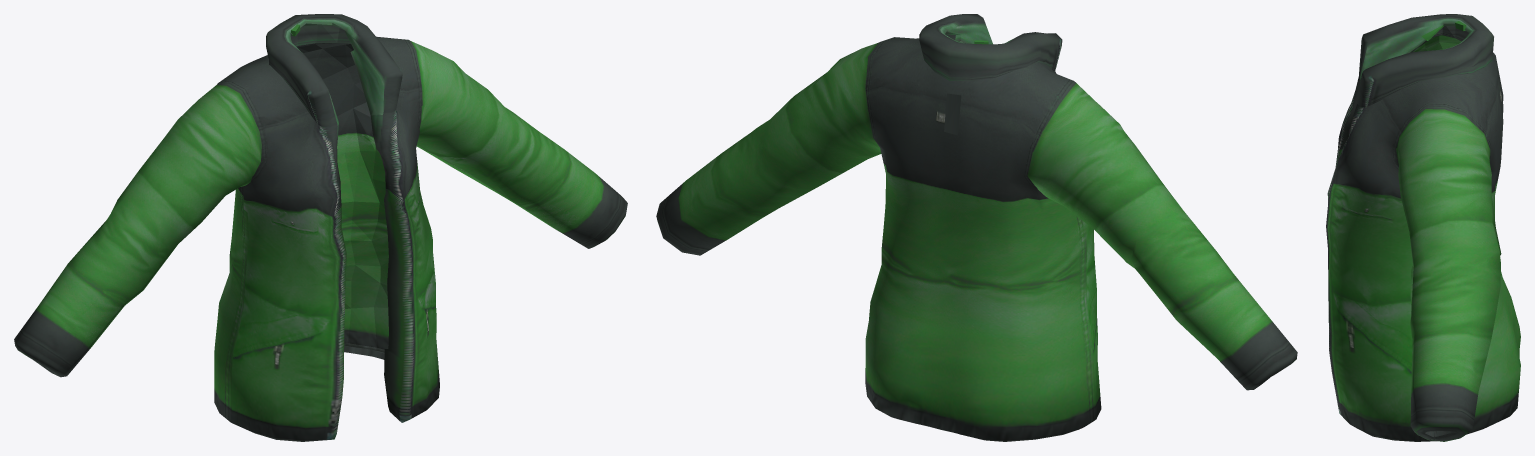
The model's file is jacket green.FBX.
3 renders of one model, left to right at view 1: azimuth 30°, elevation 25°; view 2: azimuth 150°, elevation 25°; view 3: azimuth 270°, elevation 25°, orthographic. The views are drawn at different scales.
Visible parts, largest first — view 1: casual24_f_highpoly; view 2: casual24_f_highpoly; view 3: casual24_f_highpoly.
Boxes of the visible parts, box(x1,y1,x2,y2) form: casual24_f_highpoly: box(14, 14, 627, 441); casual24_f_highpoly: box(656, 14, 1297, 441); casual24_f_highpoly: box(1326, 14, 1520, 441).
Bounding box in the file's own units: 113 × 65.44 × 31.32.
1 material, 1 textured.
